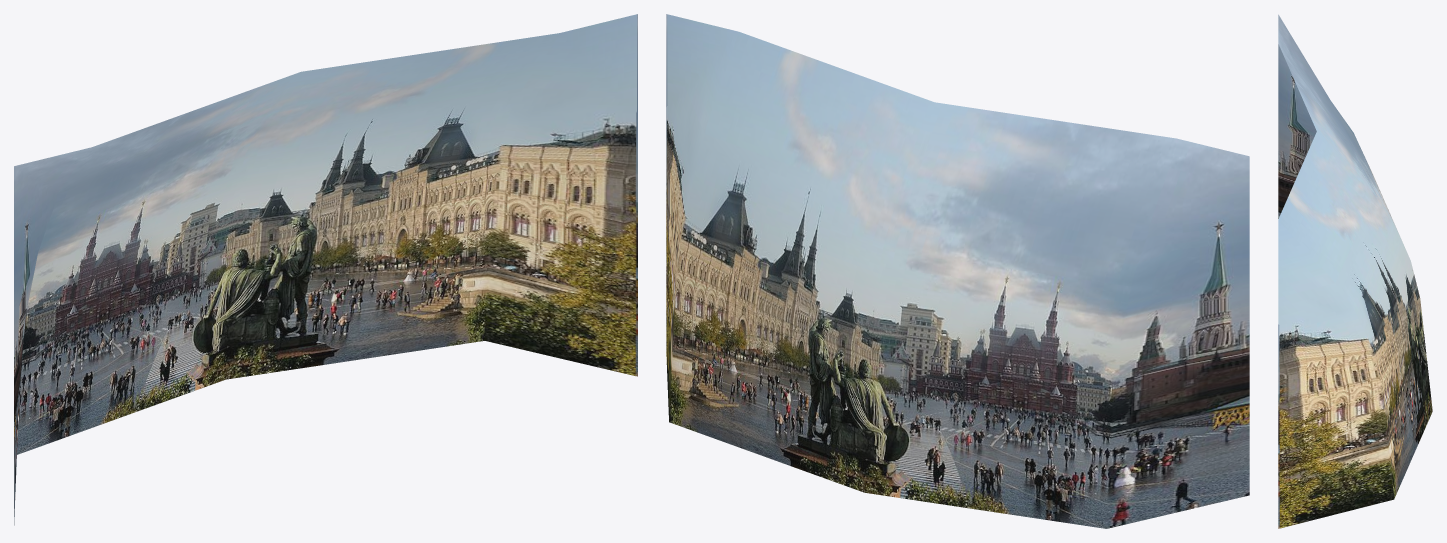
File: outside.glb
3 renders of one model, left to right at view 1: azimuth 30°, elevation 25°; view 2: azimuth 150°, elevation 25°; view 3: azimuth 270°, elevation 25°, orthographic. The views are drawn at different scales.
Visible parts, largest first — view 1: Plane; view 2: Plane; view 3: Plane.
Part boxes in pixels (x1=…): Plane: x1=14, y1=14, x2=637, y2=525; Plane: x1=666, y1=14, x2=1249, y2=528; Plane: x1=1278, y1=14, x2=1432, y2=528.
Bounding box in the file's own units: 11.52 × 6.4 × 3.2.
Materials: 1 (1 with a texture image).
